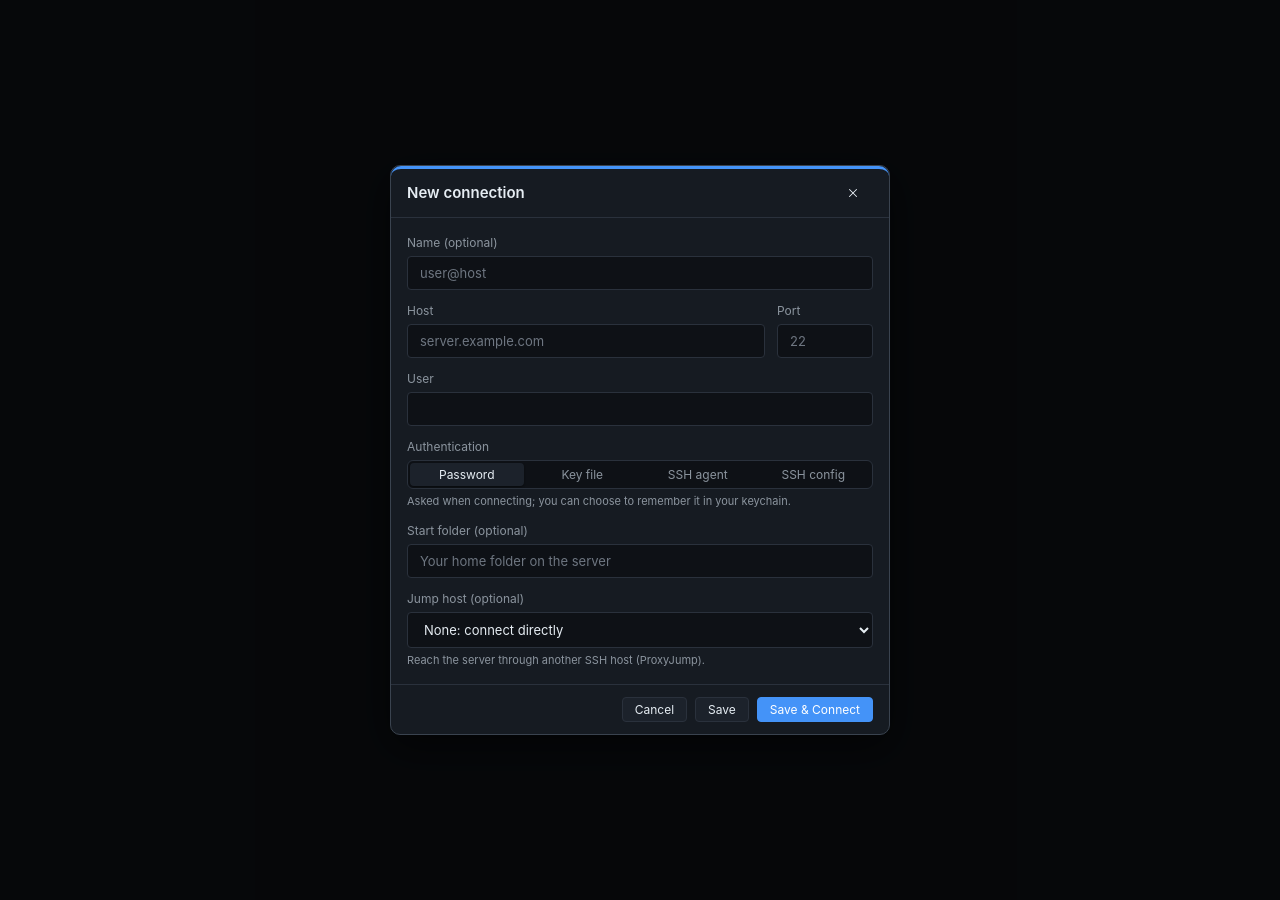
Test case: ConnectionForm › shows a backend rejection inline and stays open
This screenshot has width=1280, height=900.
Expected: the dialog "New connection" is shown, left=390, top=165, right=890, bottom=735
Type "alpha.example.test" into the field labelled "Host". click: (586, 341)
box: left=407, top=324, right=765, bottom=358
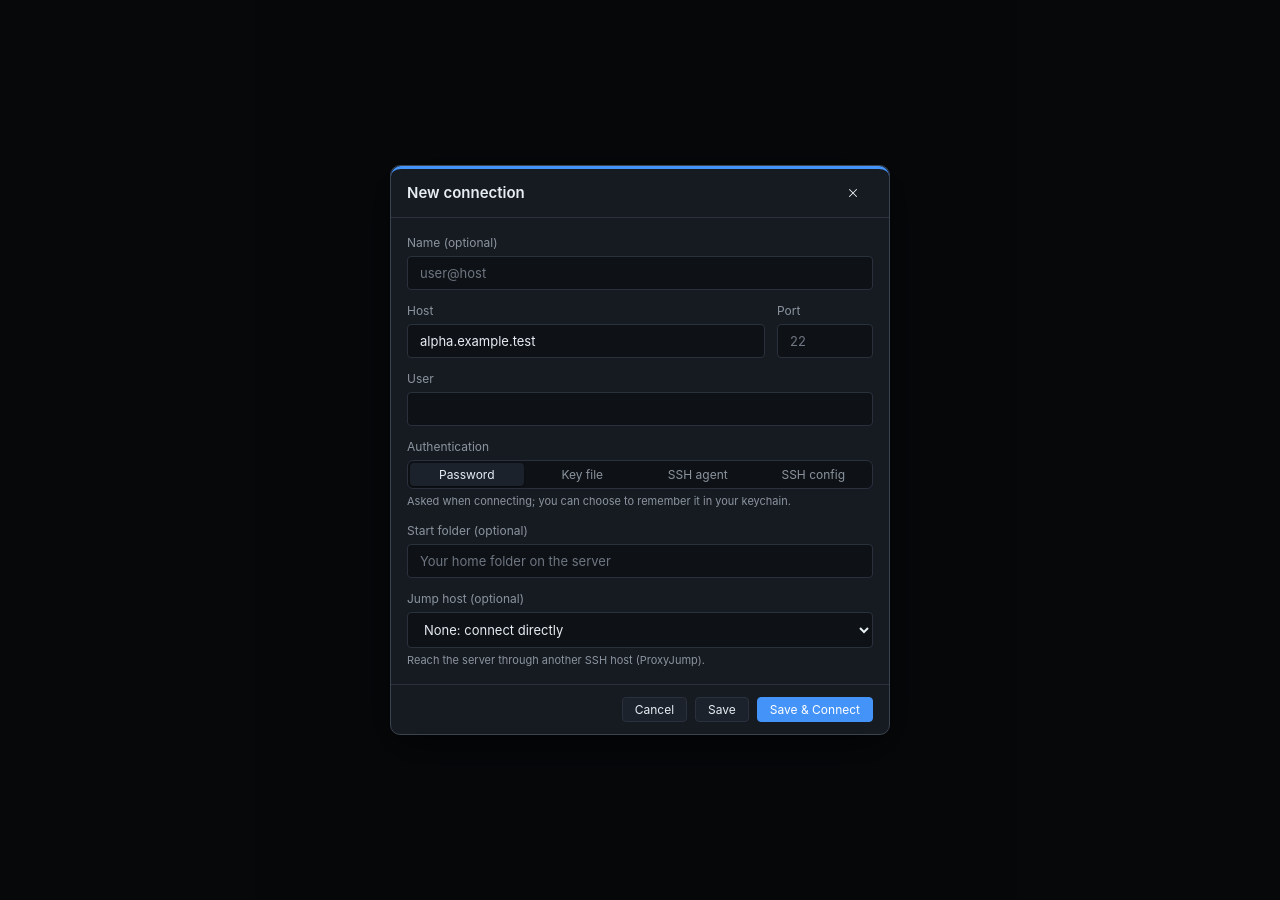
Type "alice" into the field labelled "User". click: (640, 409)
box: left=407, top=392, right=873, bottom=426
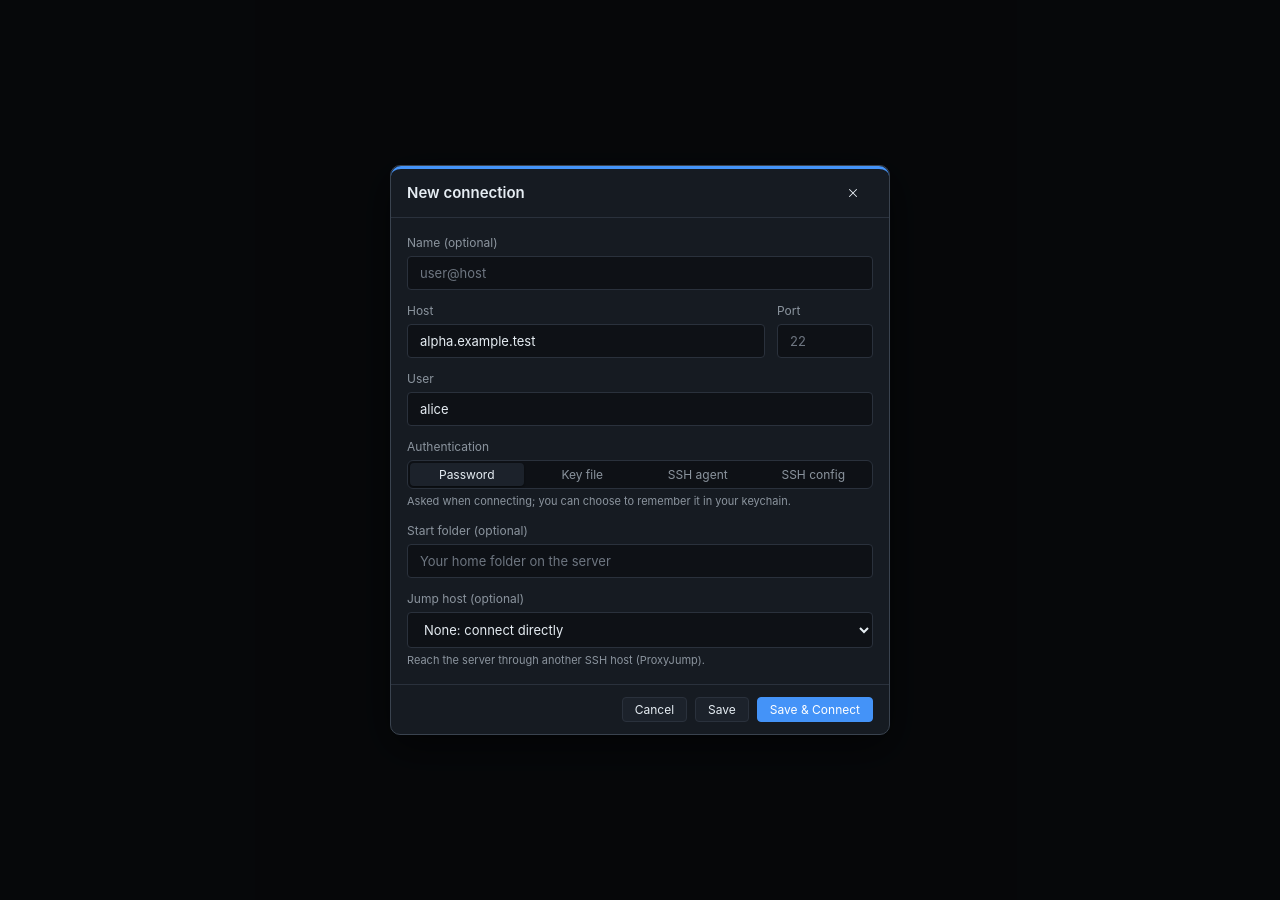
Click the button "Save". click: (722, 710)
box: left=695, top=697, right=749, bottom=722
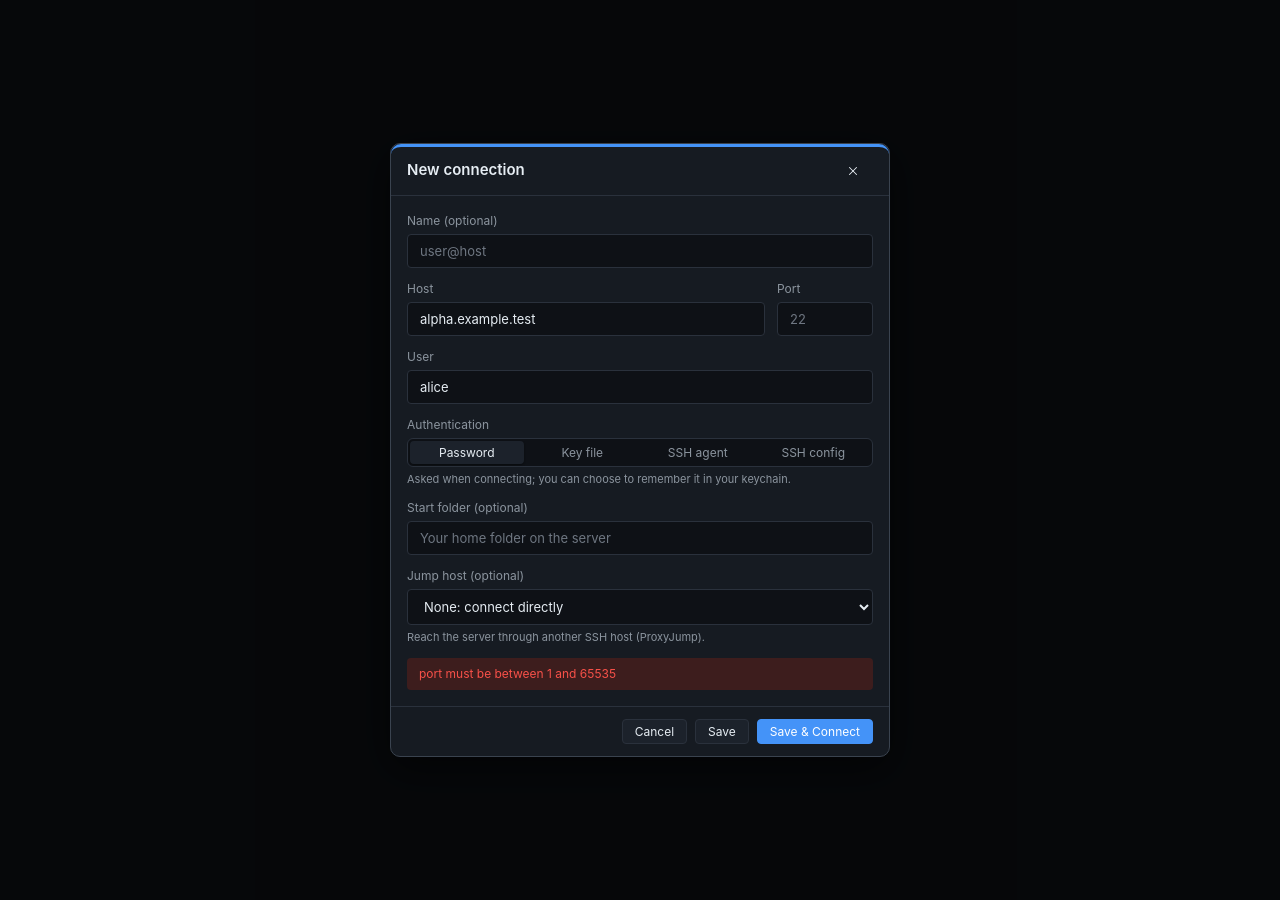
Result: the message reads "port must be between 1 and 65535" at left=419, top=666, right=616, bottom=681
